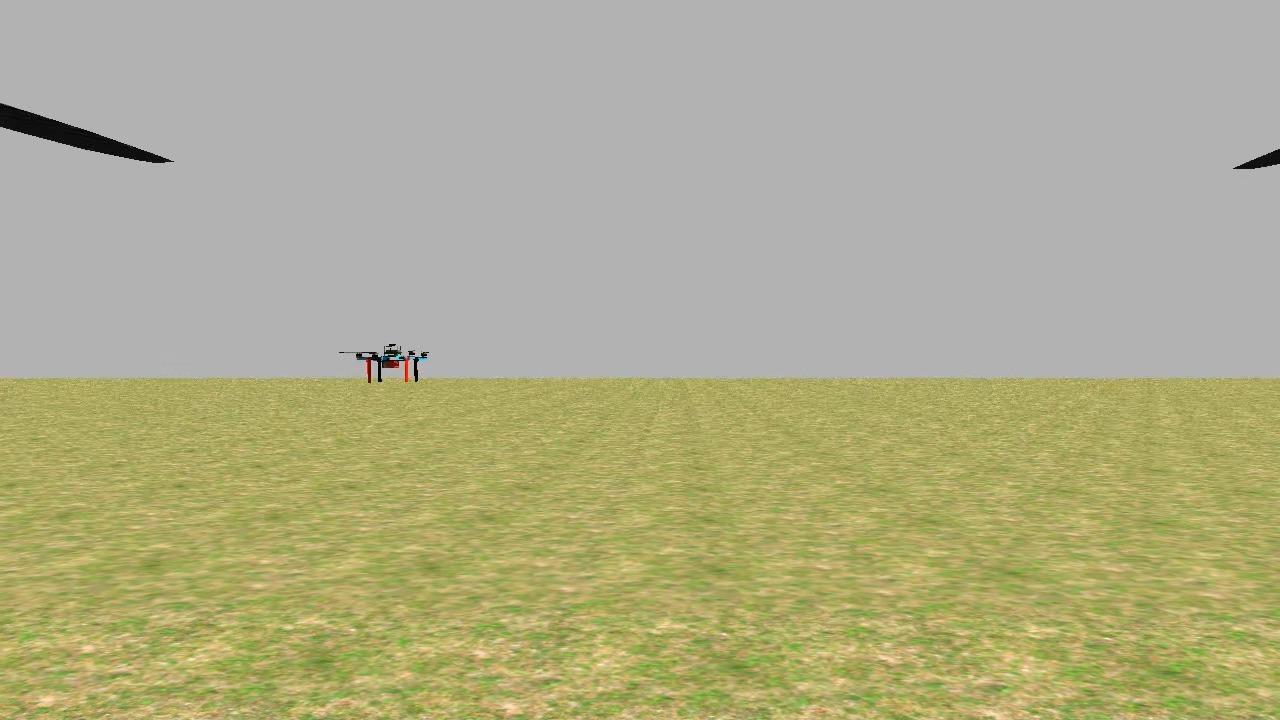UAV: (349, 340, 435, 388)
